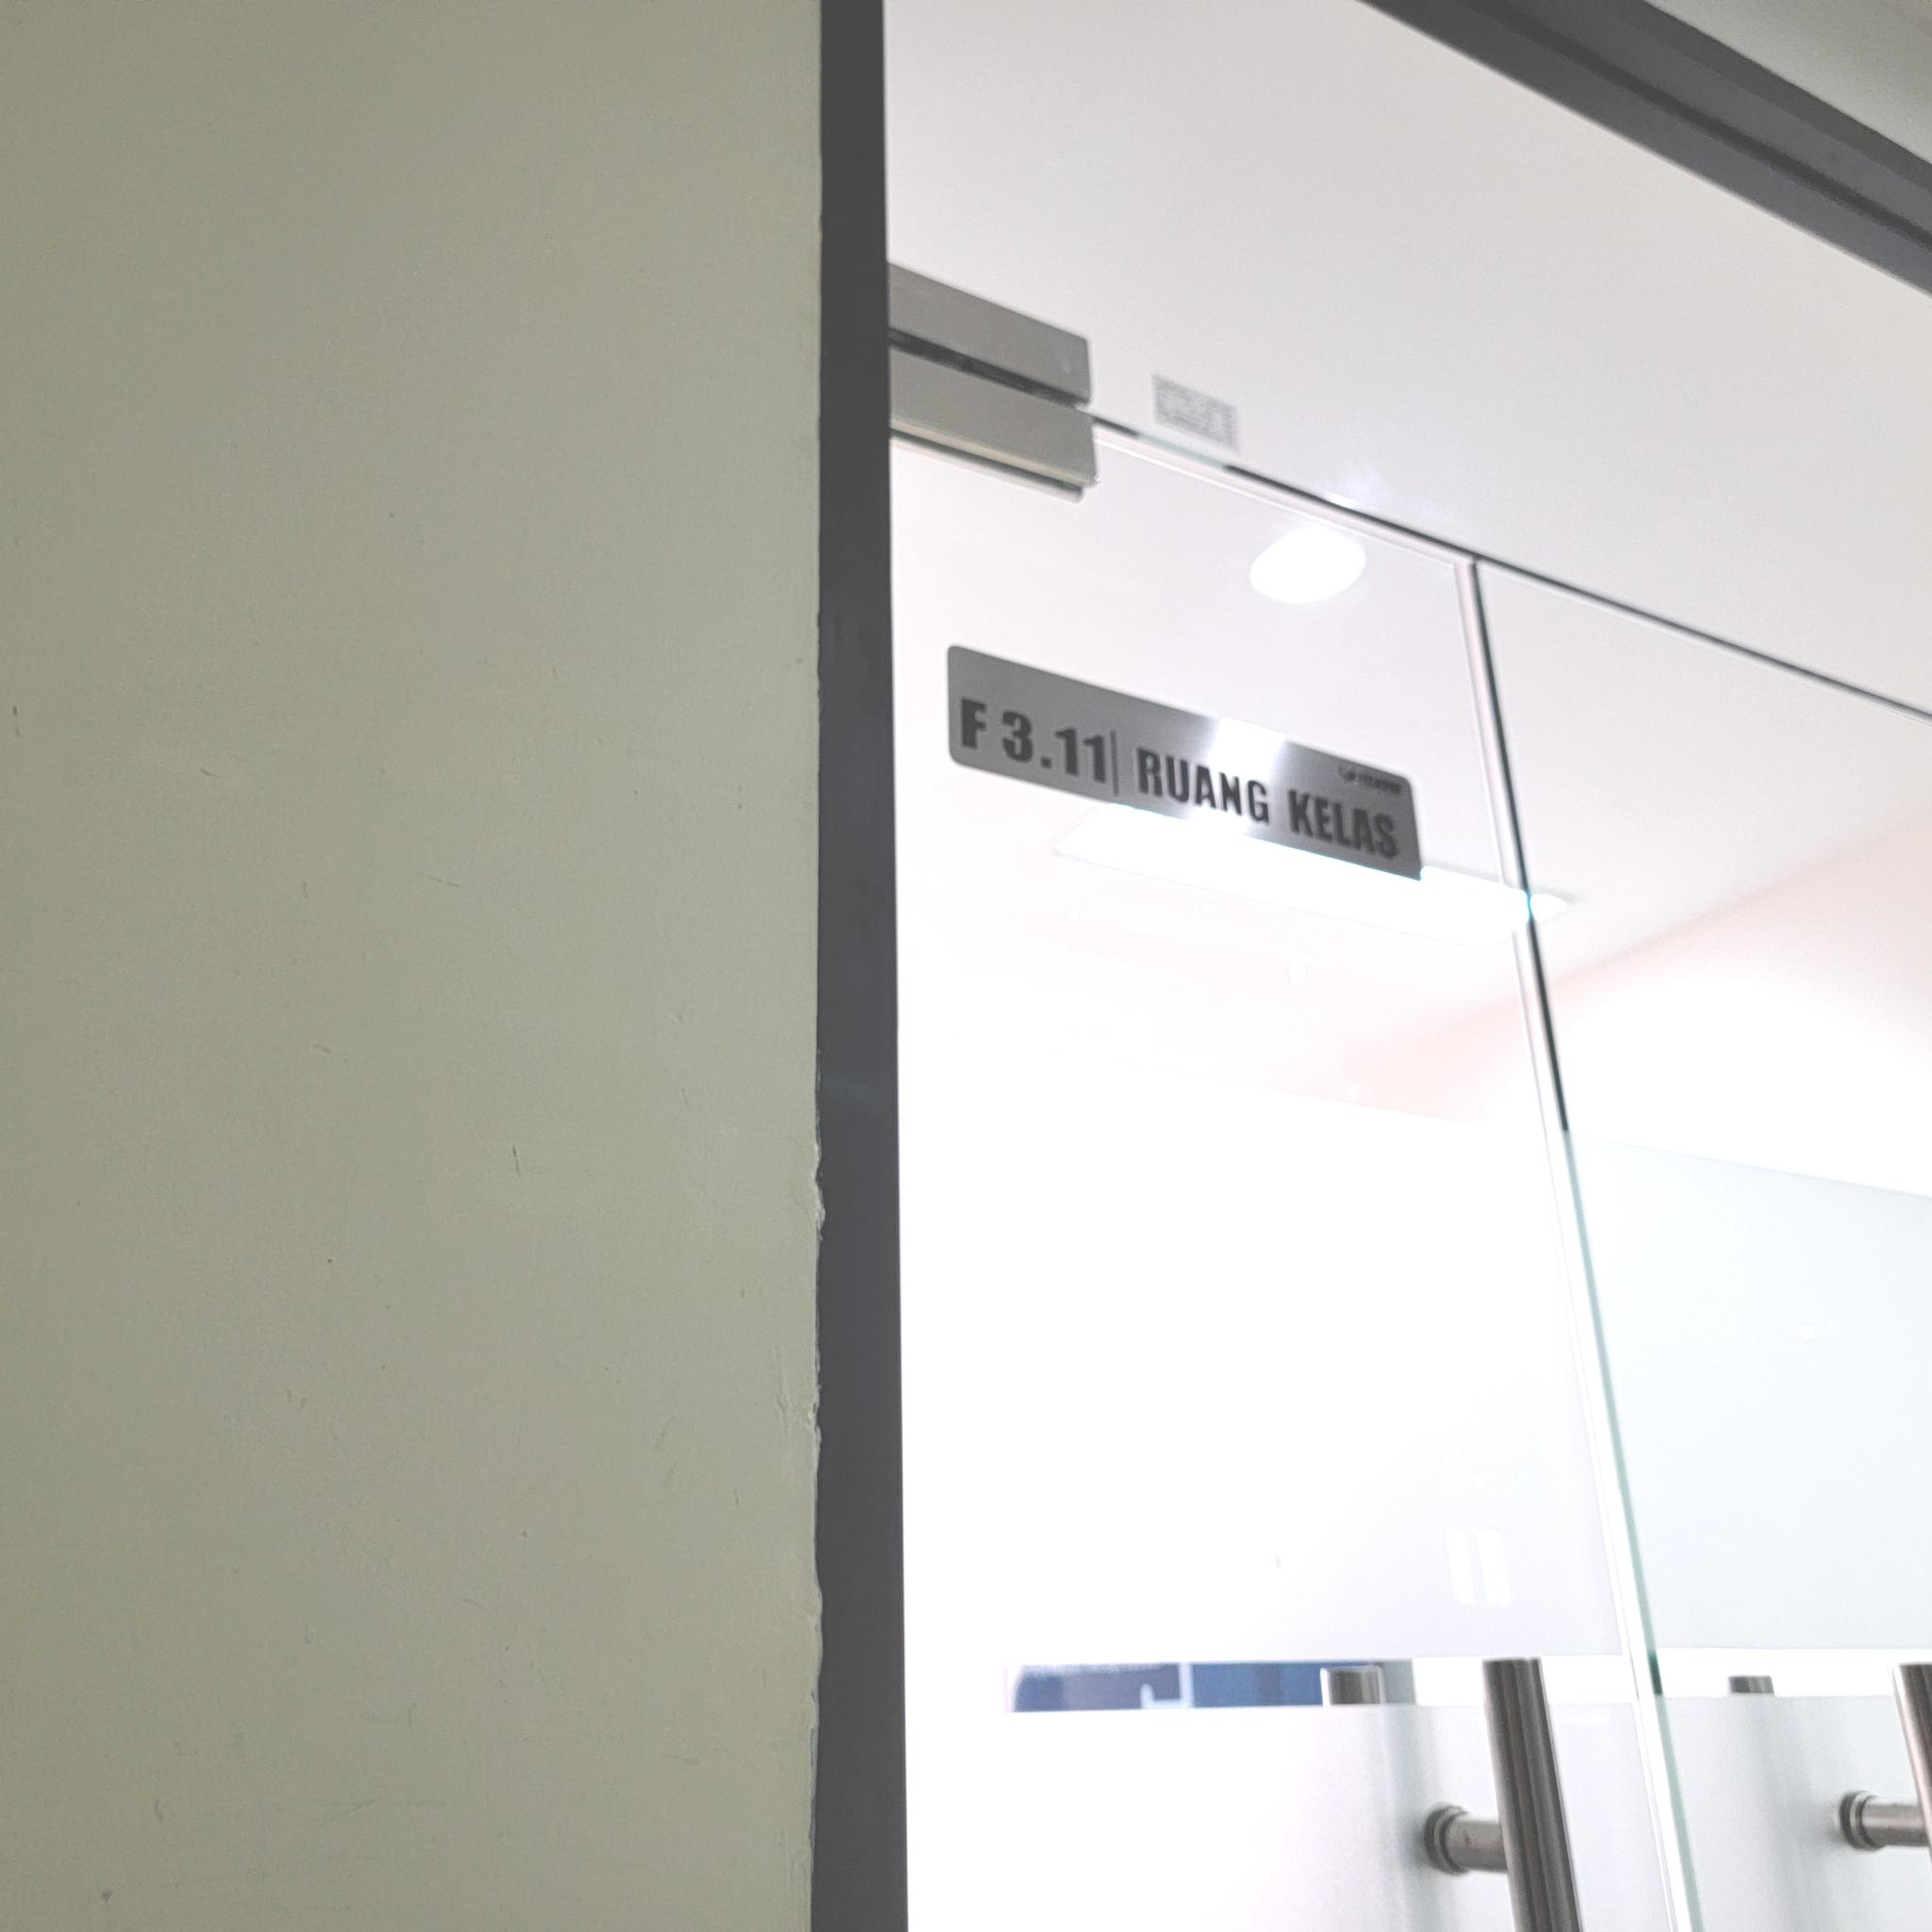plate: (947, 642, 1422, 879)
